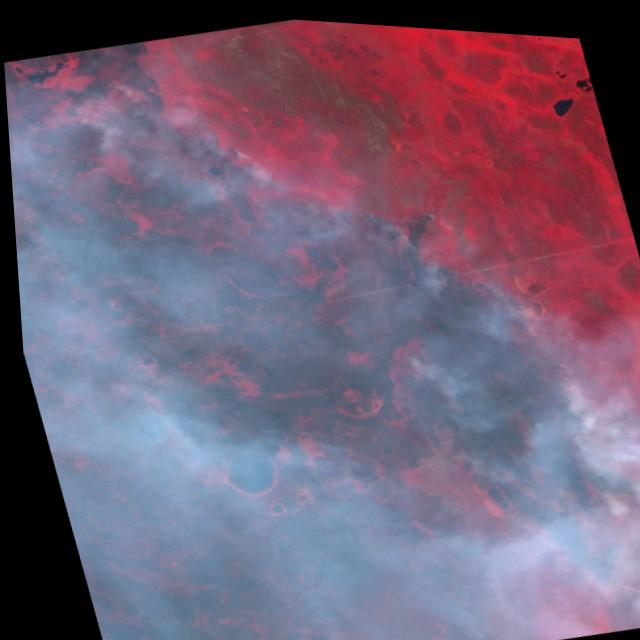fire: (364, 231, 640, 628), (183, 64, 478, 310), (34, 49, 172, 146)
